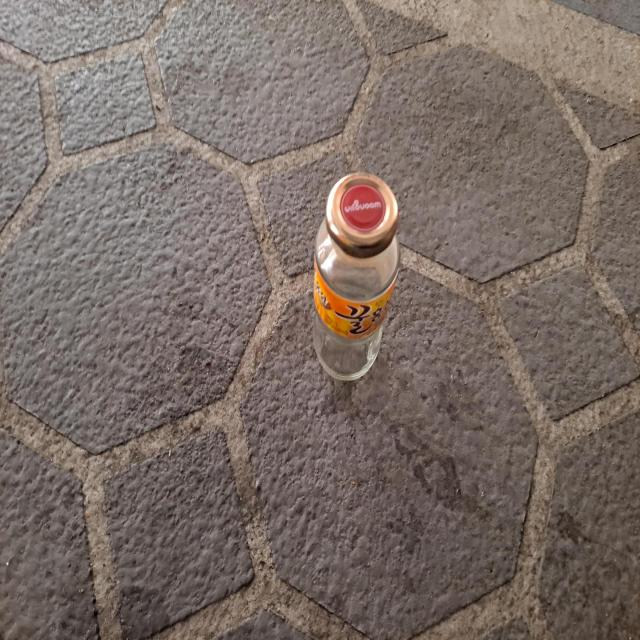glass: (313, 172, 400, 380)
